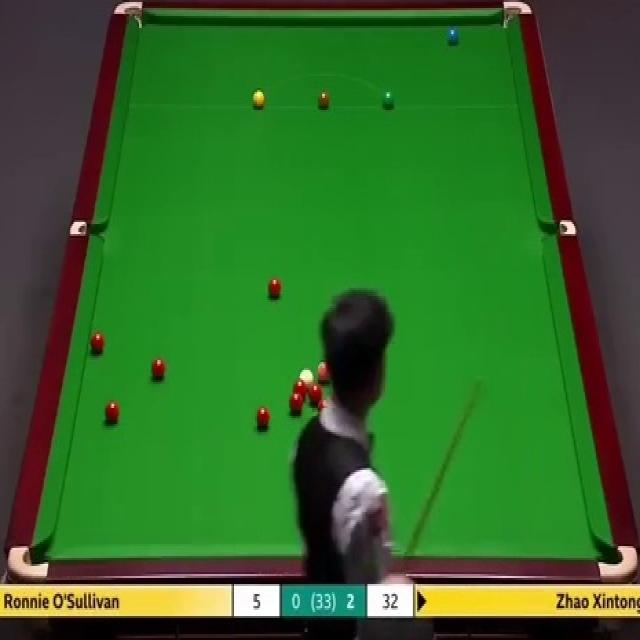blue-ball: (445, 22, 461, 47)
brown-ball: (317, 91, 331, 111)
green-ball: (382, 90, 396, 112)
pink-ball: (314, 361, 332, 385)
red-ball: (104, 399, 120, 427), (150, 357, 167, 381), (267, 276, 283, 300), (288, 393, 304, 416), (256, 405, 270, 431), (89, 331, 104, 355), (291, 379, 308, 400), (311, 382, 327, 402), (317, 398, 330, 414)
white-ball: (297, 366, 316, 389)
yellow-ball: (252, 90, 266, 110)
